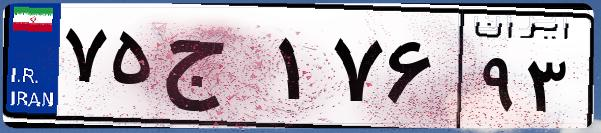1: (270, 28, 330, 110)
3: (525, 38, 570, 115)
5: (110, 28, 158, 98)
6: (385, 28, 445, 110)
7: (330, 28, 385, 110), (57, 26, 110, 100)
9: (475, 38, 525, 113)
ج: (158, 20, 270, 120)
